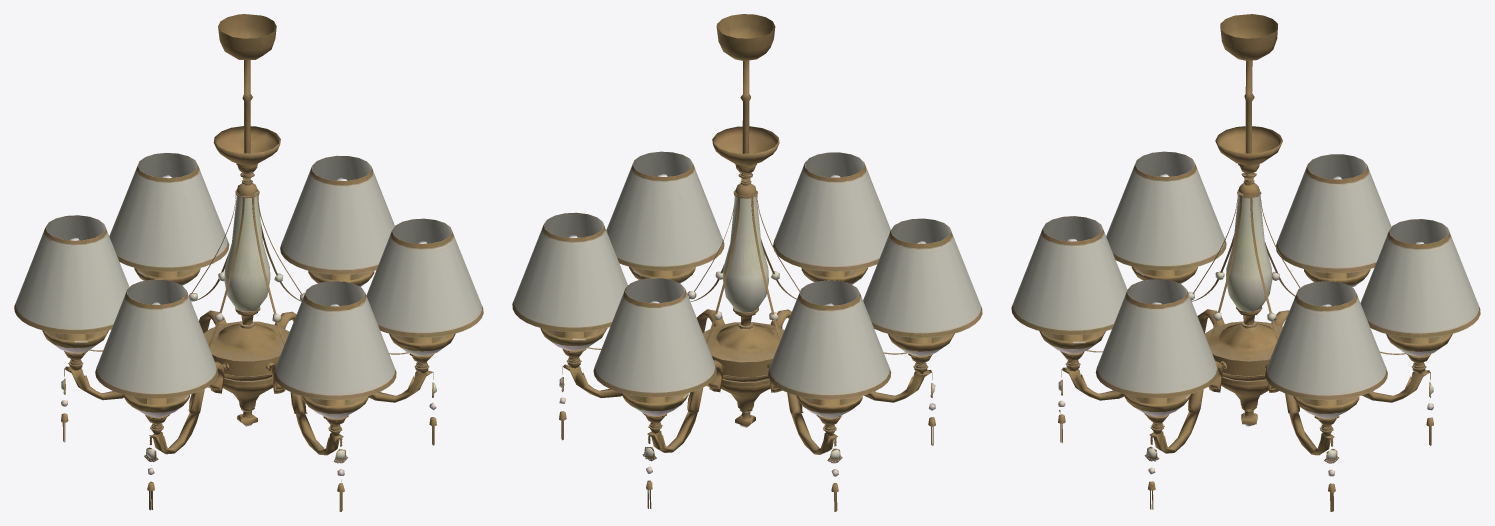
Rendered from Chandelier_01.glb.
The picture shows the model from 3 angles, left to right: view 1: azimuth 30°, elevation 25°; view 2: azimuth 150°, elevation 25°; view 3: azimuth 270°, elevation 25°; orthographic projection.
Parts seen in each view (by area): view 1: Chandelier_01; view 2: Chandelier_01; view 3: Chandelier_01.
Boxes of the visible parts, box(x1,y1,x2,y2) form: Chandelier_01: box(14, 14, 483, 511); Chandelier_01: box(512, 14, 982, 511); Chandelier_01: box(1011, 14, 1480, 511).
Size of the model in its own units: 0.7465 by 0.7982 by 0.8155.
Materials: 2 (1 with a texture image).
